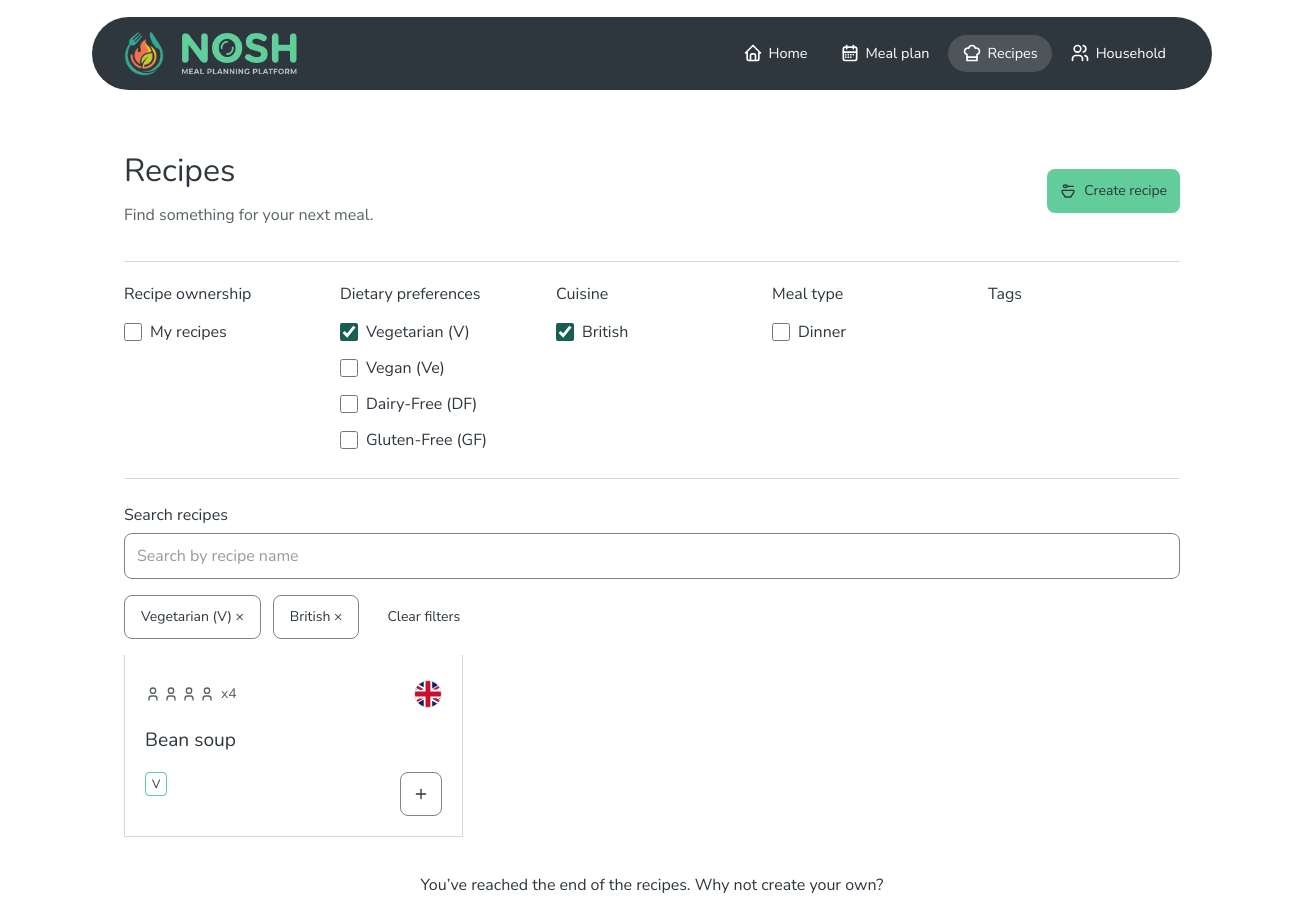
Test: initialises dietary defaults without render-time navigation (cached: false)
Expected: the link "Bean soup" is shown, [145,727,236,753]
Click the button "Clear filters" at (424, 617), box [371,595,476,639]
(page scrolled)
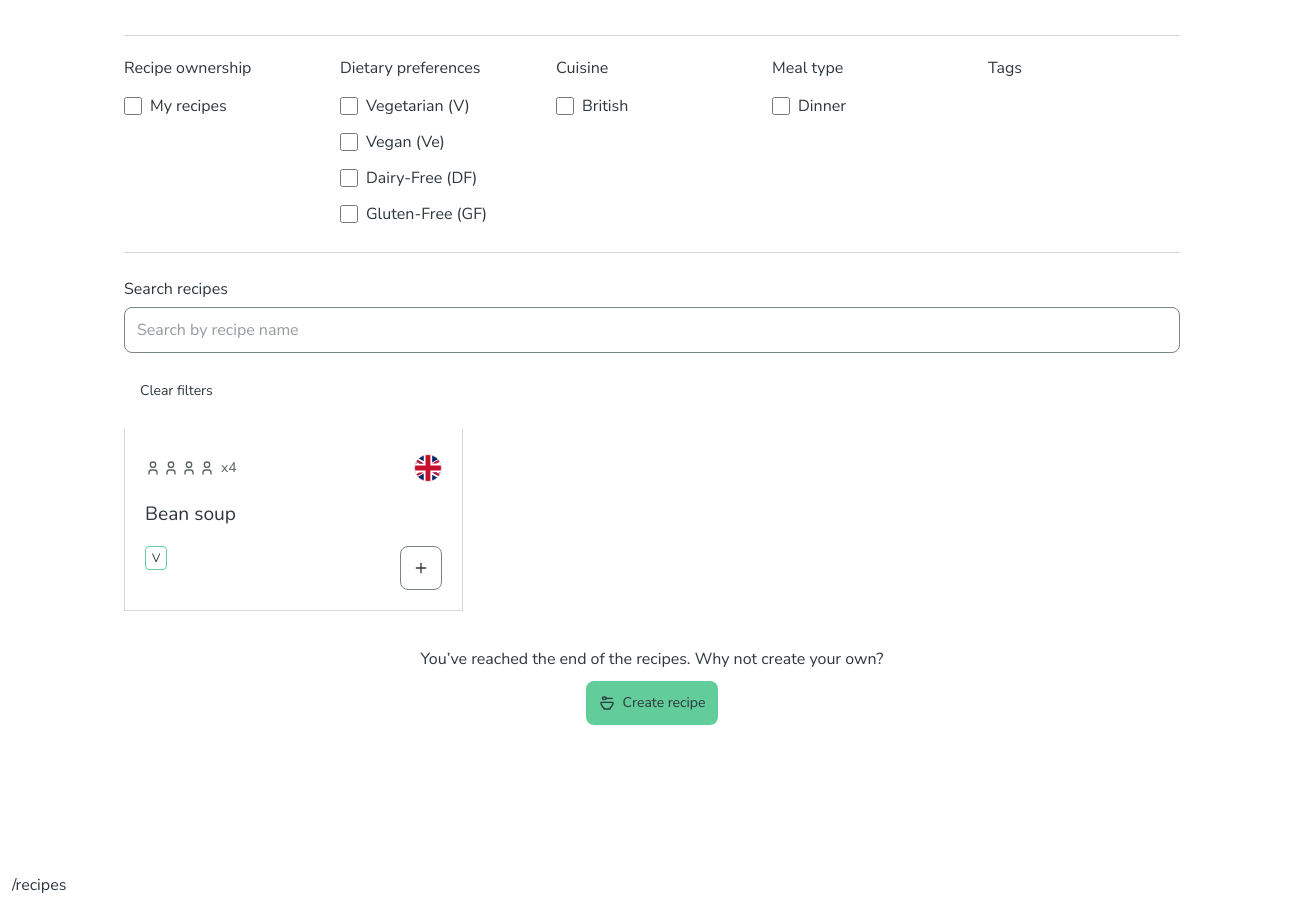
Result: the text with test id "location" reads "/recipes" at [12,874,66,896]
